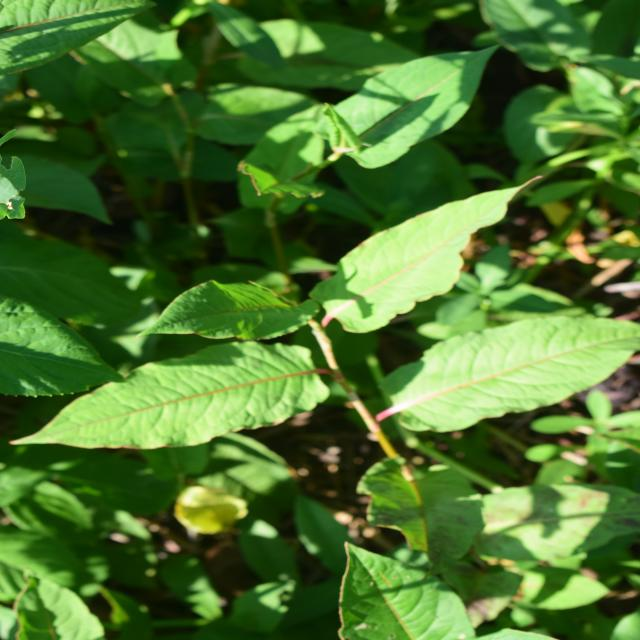Chinese_knotweed: (174, 46, 454, 621)
